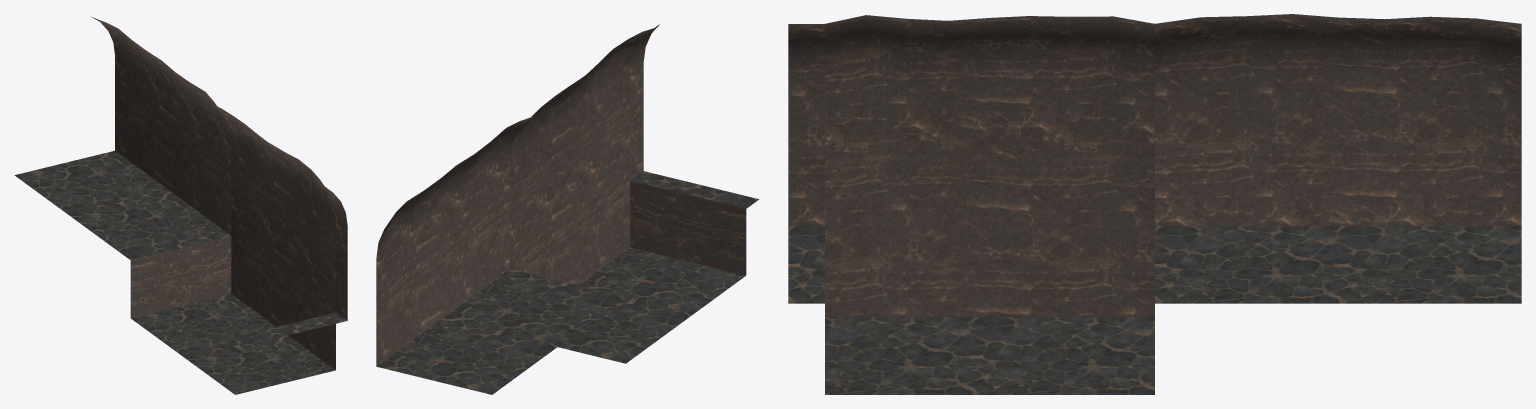
The model's file is hall-ledge.c7d277de.gltf.
3 renders of one model, left to right at view 1: azimuth 30°, elevation 25°; view 2: azimuth 150°, elevation 25°; view 3: azimuth 270°, elevation 25°, orthographic. The views are drawn at different scales.
Visible parts, largest first — view 1: hall-ledge-mesh; view 2: hall-ledge-mesh; view 3: hall-ledge-mesh.
Boxes of the visible parts, x1,y1,x2,y2 form: hall-ledge-mesh: (14, 17, 347, 394); hall-ledge-mesh: (376, 24, 758, 394); hall-ledge-mesh: (788, 14, 1521, 394).
Bounding box in the file's own units: 2.22 × 4.01 × 8.
Materials: 2 (2 with a texture image).
